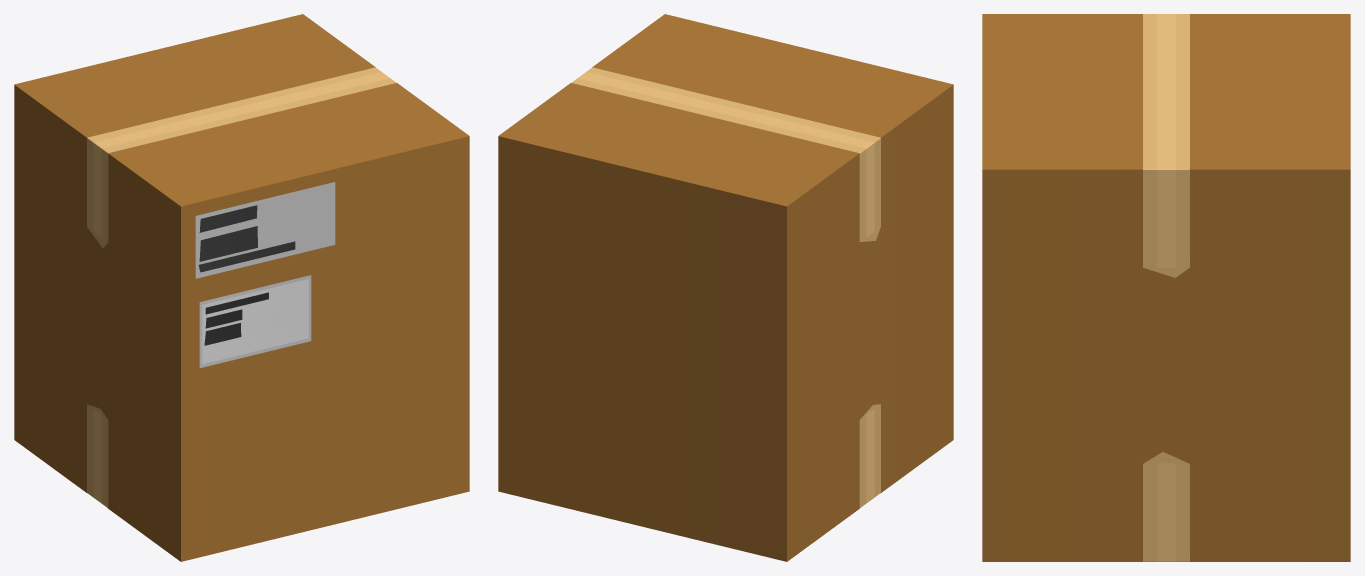
The model's file is Dark Packing Box #6.fbx.
3 views of the same model, side by side, from view 1: azimuth 30°, elevation 25°; view 2: azimuth 150°, elevation 25°; view 3: azimuth 270°, elevation 25° (orthographic). The views are drawn at different scales.
Parts seen in each view (by area): view 1: Large Dark Packing Box; view 2: Large Dark Packing Box; view 3: Large Dark Packing Box.
Boxes of the visible parts, box(x1,y1,x2,y2) form: Large Dark Packing Box: box(14, 14, 469, 561); Large Dark Packing Box: box(498, 14, 953, 561); Large Dark Packing Box: box(982, 14, 1350, 561).
Bounding box in the file's own units: 344 × 292 × 292.
Materials: 1 (1 with a texture image).
